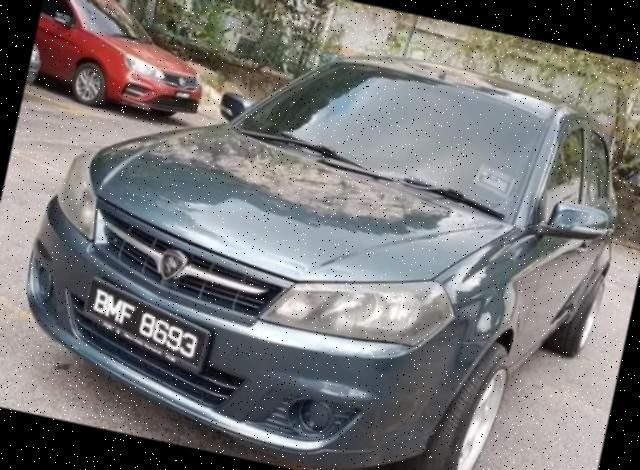License_Plate: (72, 277, 212, 371)
car: (1, 1, 640, 470)
